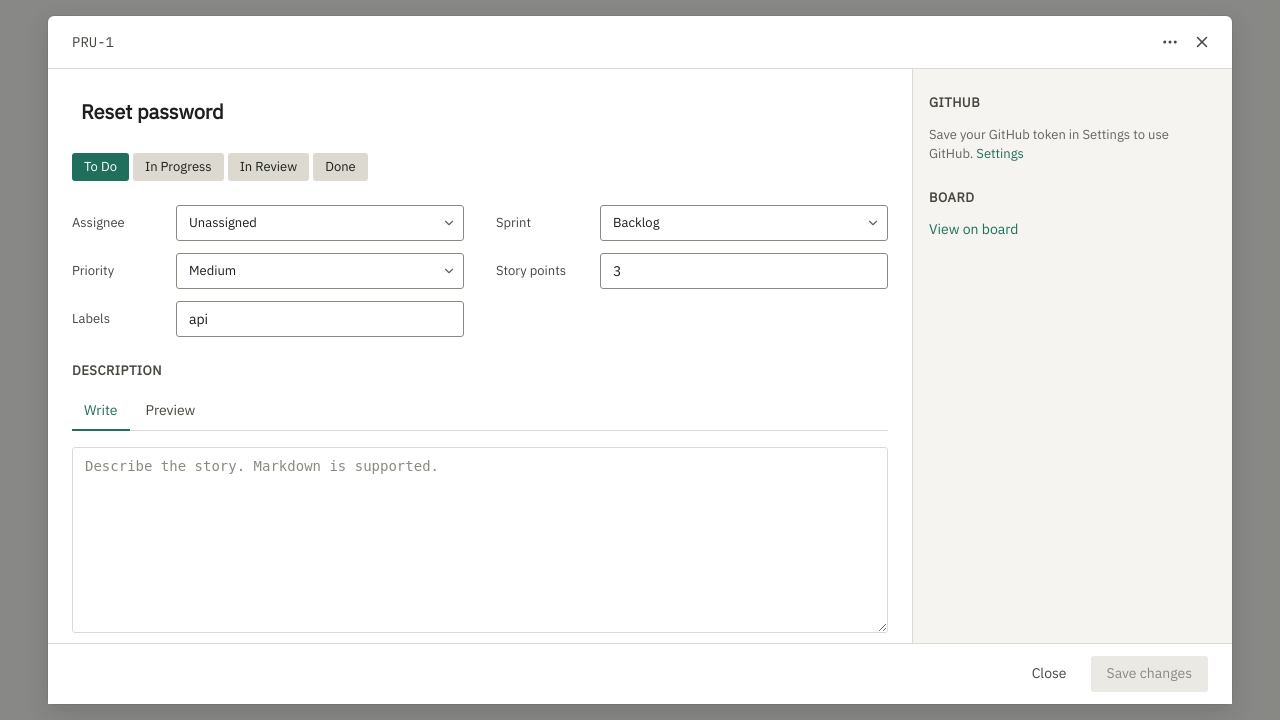
Scenario: StoryDrawer › saves only after a change and sends the edited fields in the API's shape
Expected: the button "Save changes" is disabled, left=1090, top=656, right=1208, bottom=692
Replace the text in the field named "Title" with "Reset the password" at (480, 111), box left=72, top=93, right=888, bottom=129
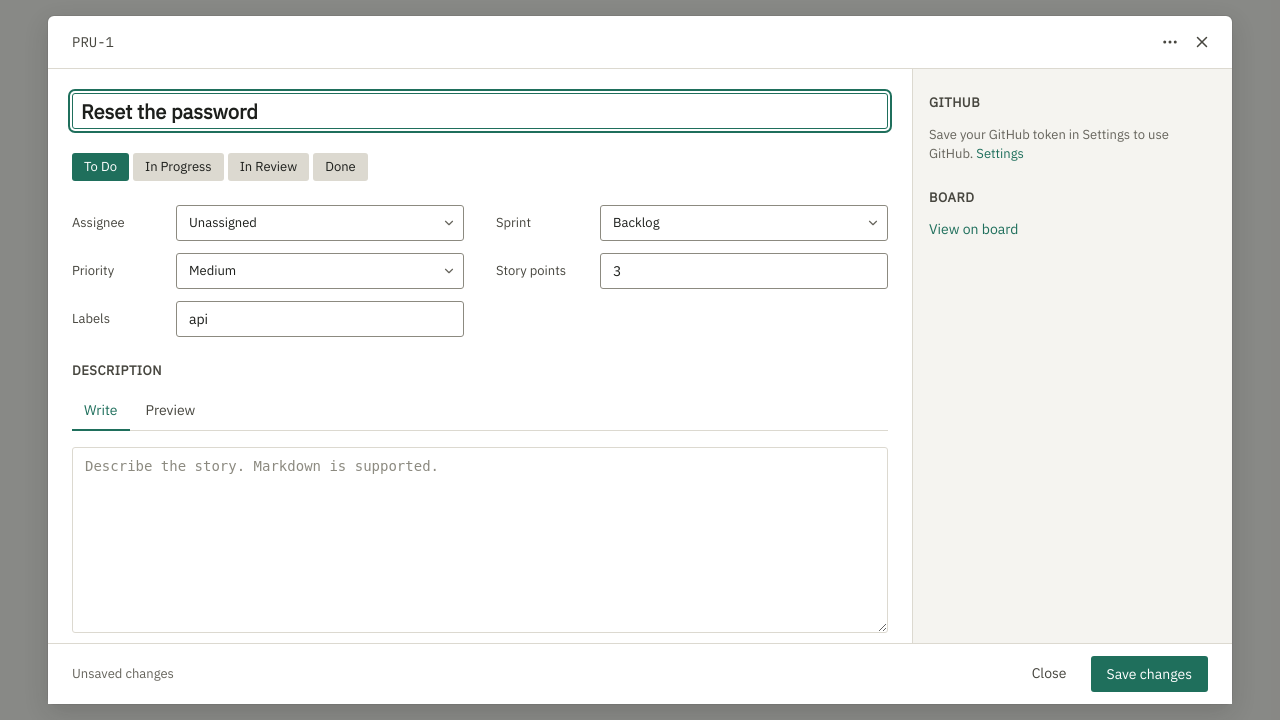
Replace the text in the number field with "5" at (744, 270), box left=600, top=252, right=888, bottom=288
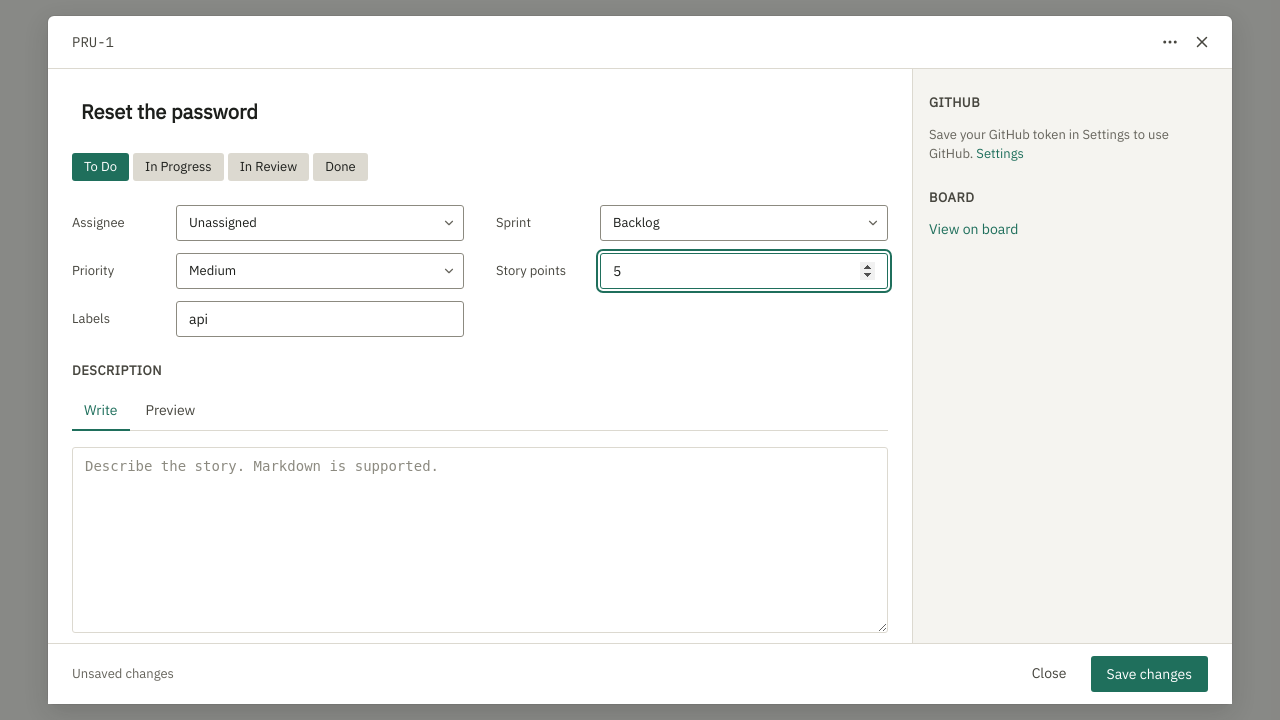
Replace the text in the field with placeholder "Separate with commas" with "api, , auth " at (320, 318), box left=176, top=300, right=464, bottom=336
(page scrolled)
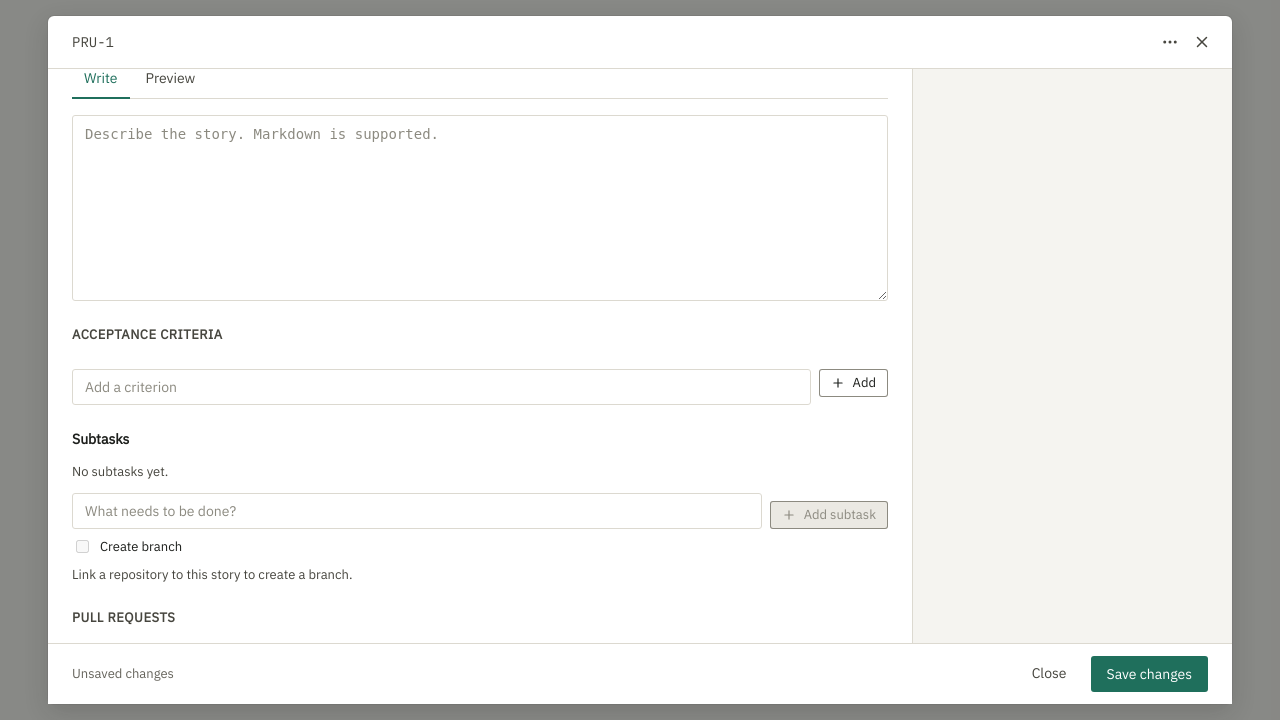
Type "Email arrives" into the field with placeholder "Add a criterion" at (441, 386), box left=72, top=368, right=811, bottom=404
Then press Enter
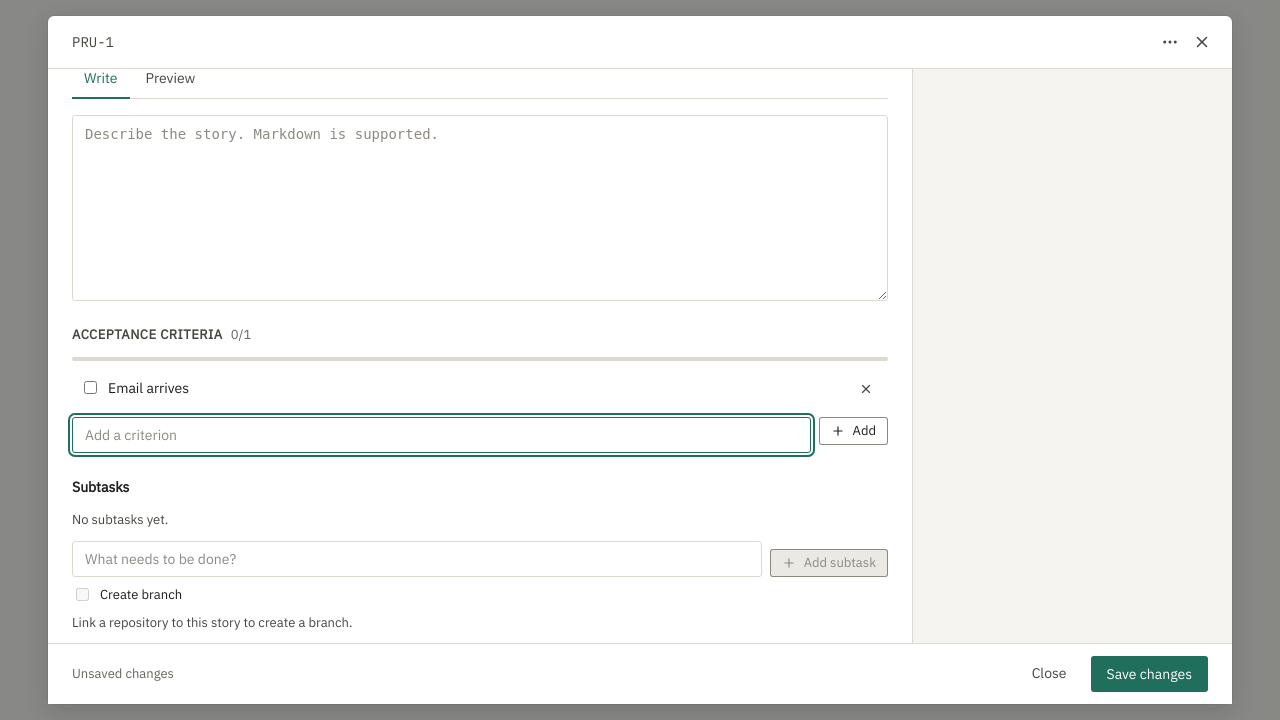
Expected: the text "Unsaved changes" is shown, left=72, top=664, right=174, bottom=684
Click the button "Save changes" at (1149, 674), box left=1090, top=656, right=1208, bottom=692
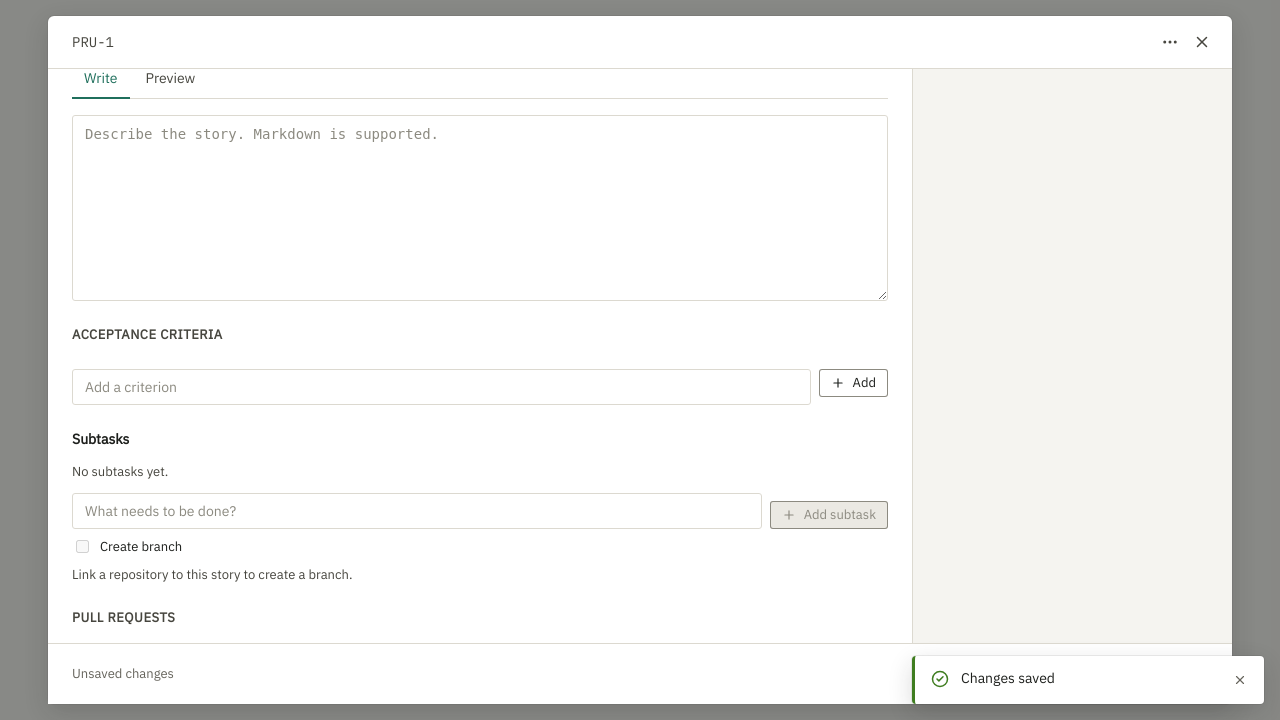
Expected: the text "Changes saved" is shown, left=961, top=669, right=1055, bottom=687
